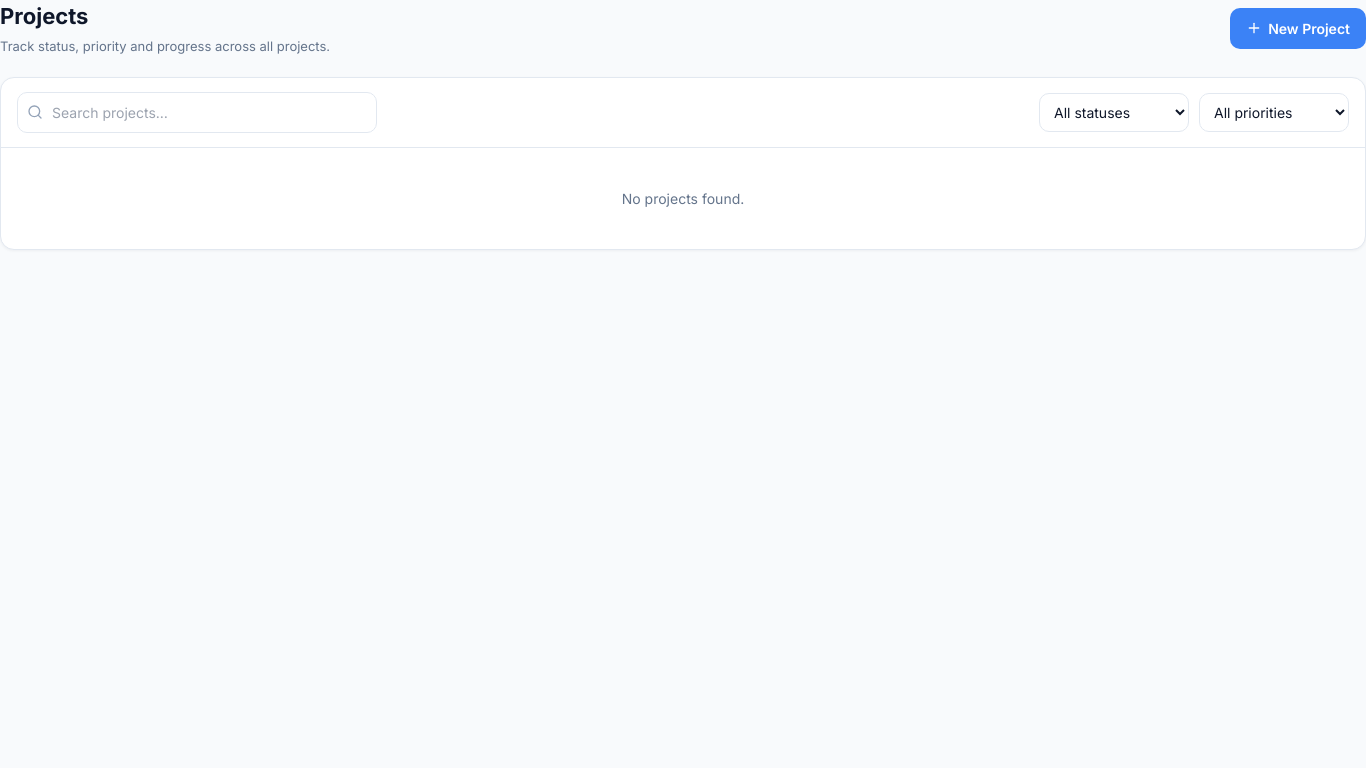
creates a project via modal
Expected: the text "No projects found." is shown, [622, 190, 744, 206]
Click the button "New Project" at [1298, 28], box [1230, 8, 1365, 49]
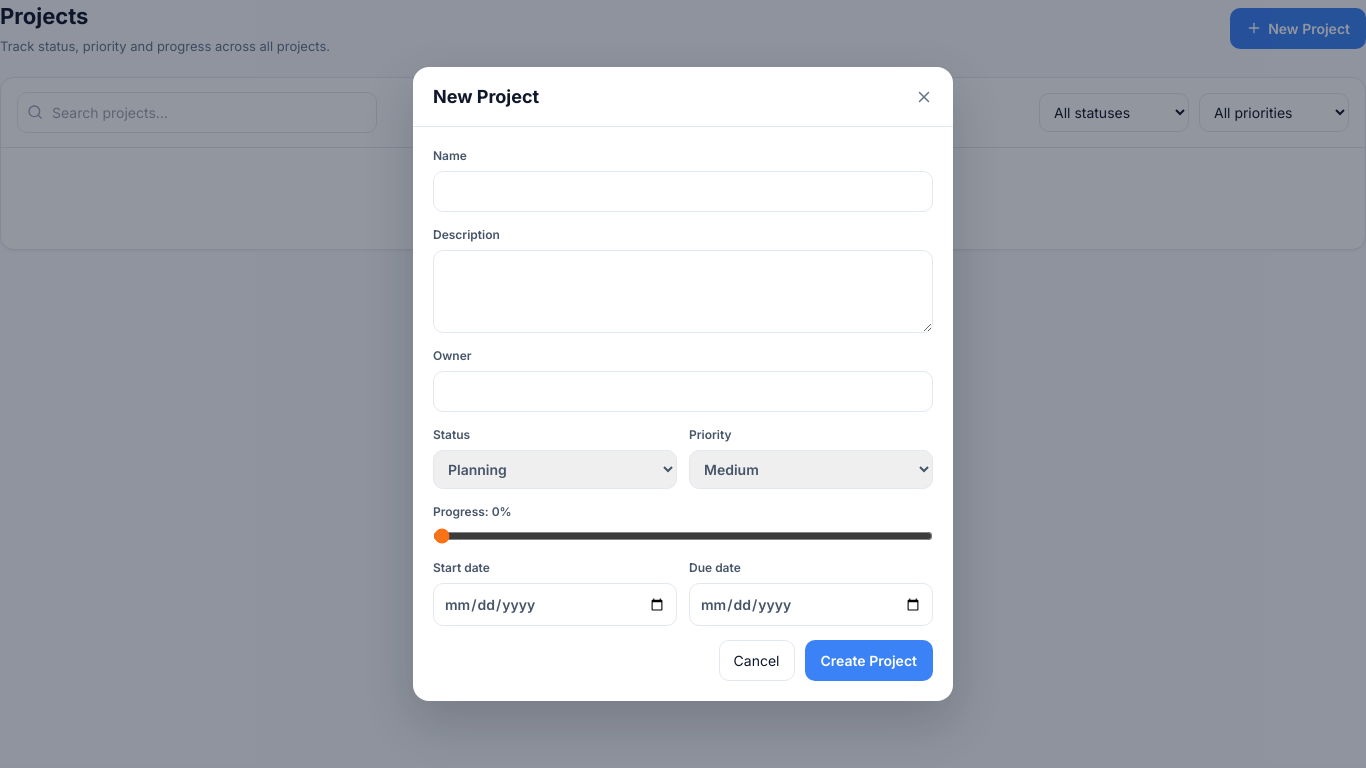
Click the button "Create Project" at [869, 660], box [804, 640, 933, 681]
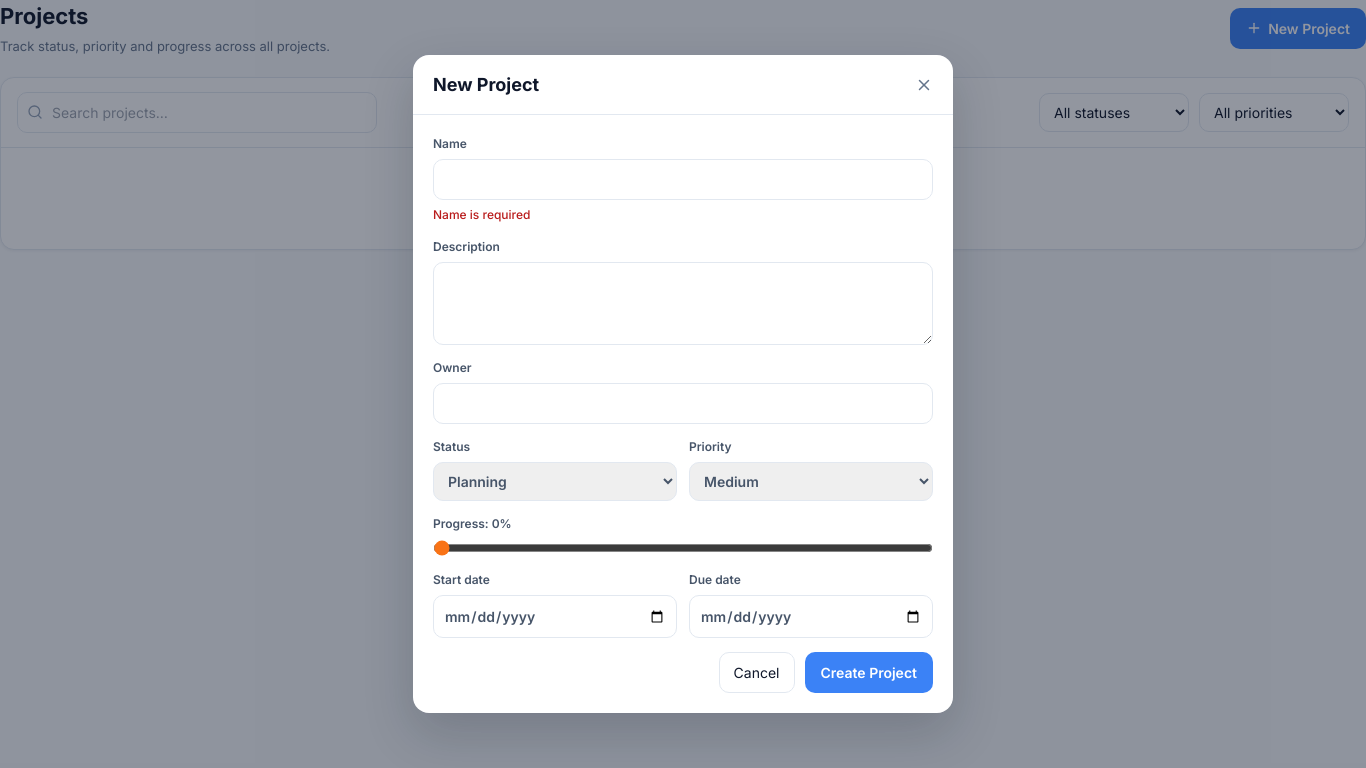
Expected: the text "Name is required" is shown, [433, 207, 530, 222]
Type "New One" into the field labelled "Name" at [683, 180], box [433, 159, 933, 200]
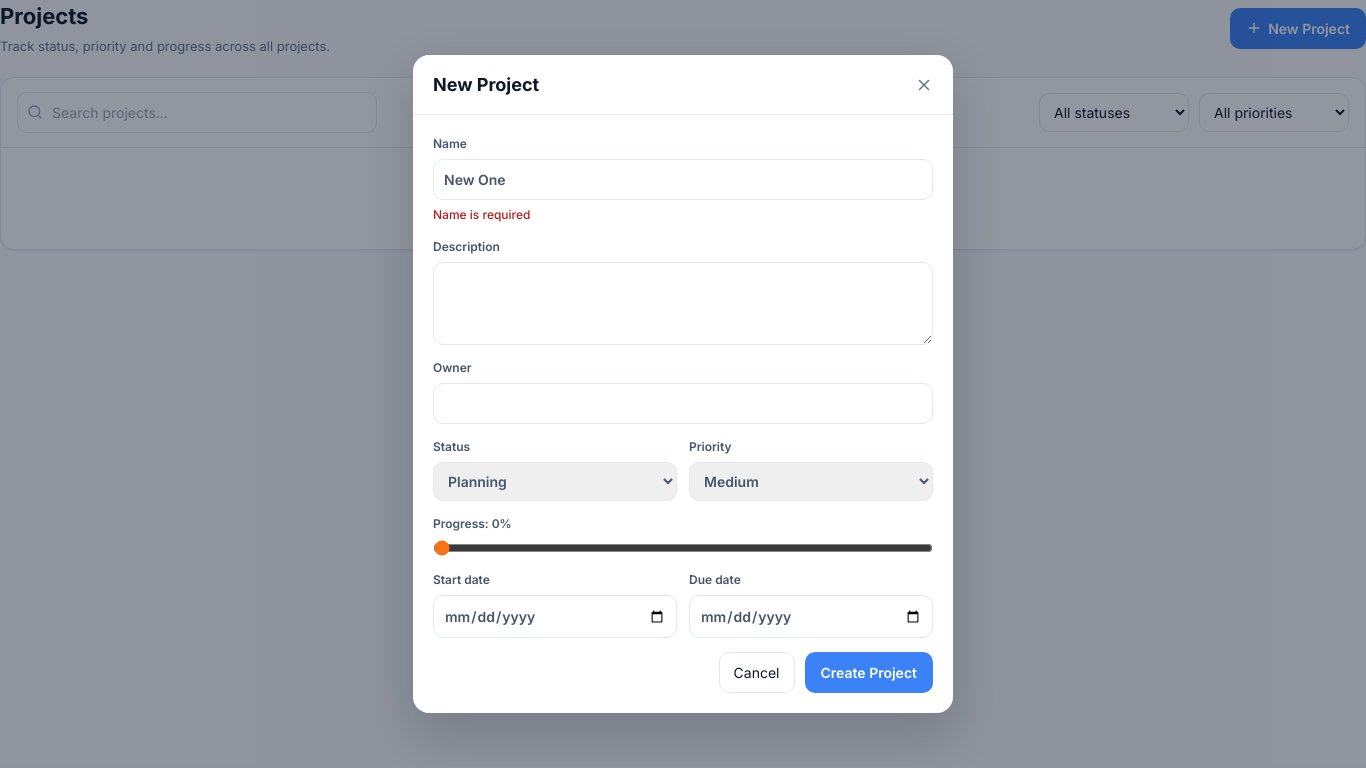
Click the button "Create Project" at [869, 672], box [804, 652, 933, 693]
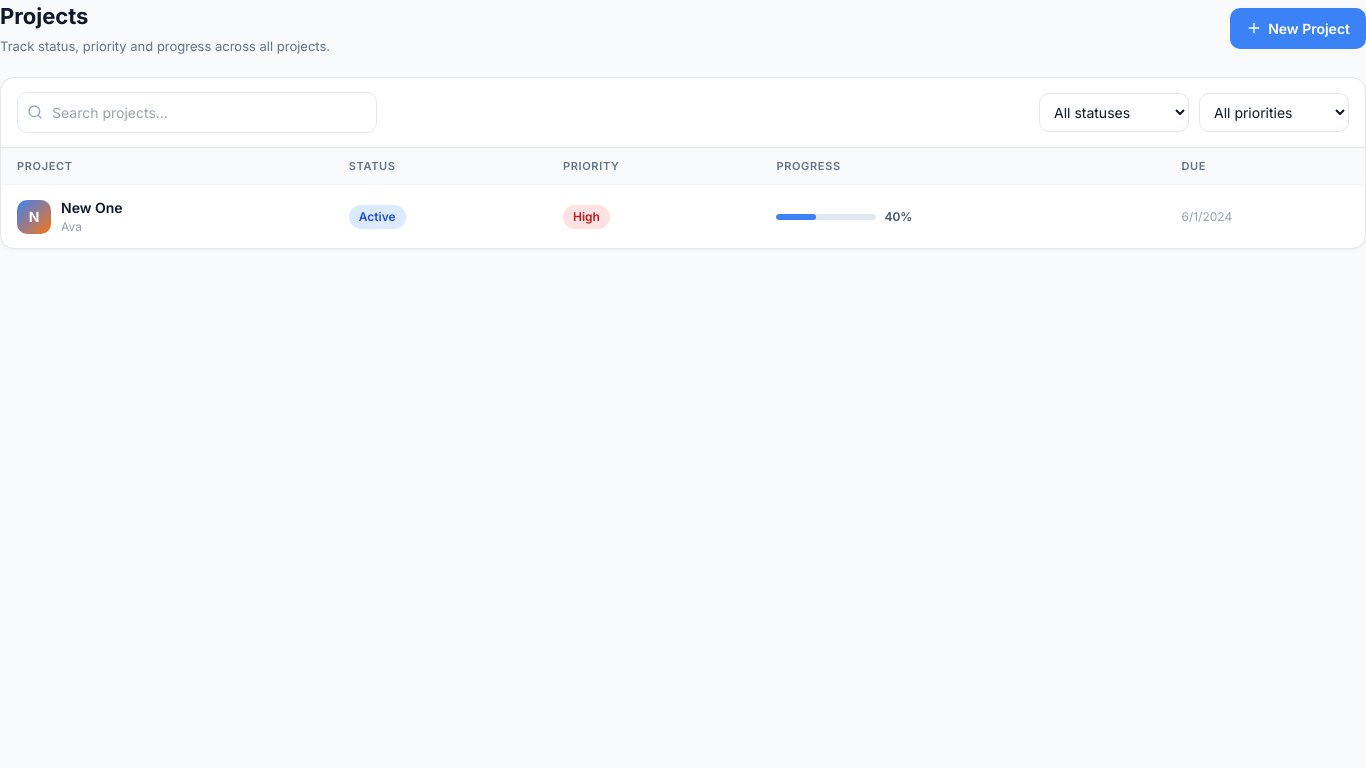
Expected: the text "New One" is shown, [61, 197, 123, 218]
